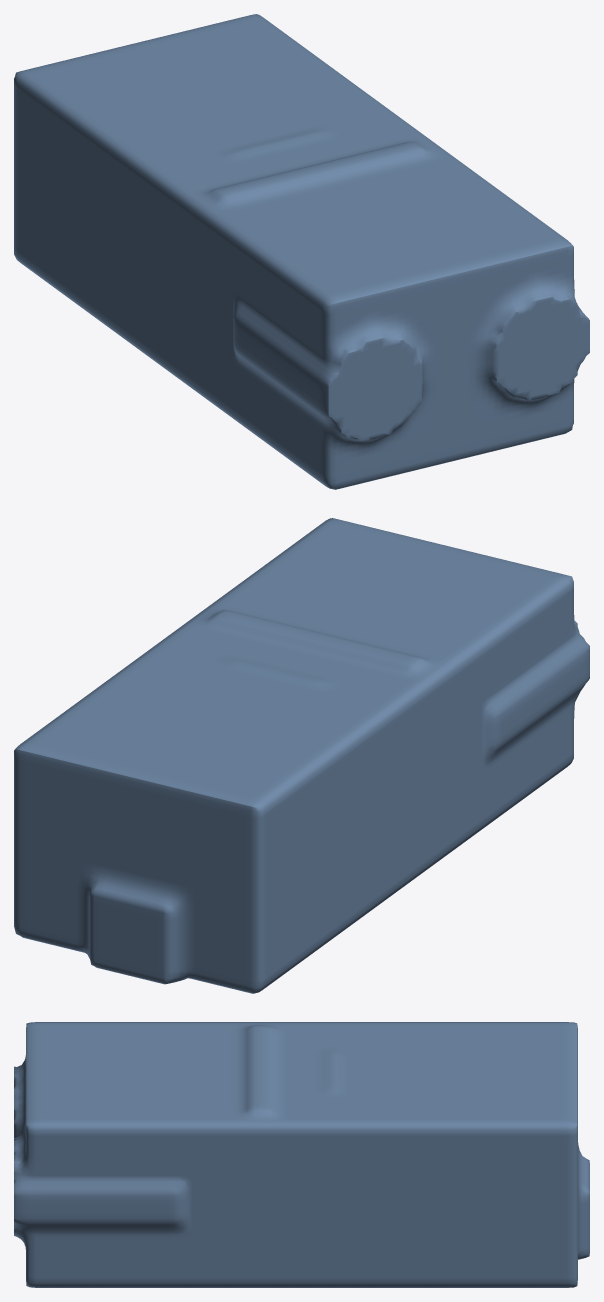
Rendered from staff-pose-typing.glb.
The picture shows the model from 3 angles, top to bottom: view 1: azimuth 30°, elevation 25°; view 2: azimuth 150°, elevation 25°; view 3: azimuth 270°, elevation 25°; orthographic projection. The views are drawn at different scales.
Visible parts, largest first — view 1: Leg_-1; view 2: Leg_-1; view 3: Leg_-1.
Boxes of the visible parts, x1,y1,x2,y2 form: Leg_-1: (14,14,589,489); Leg_-1: (14,518,589,993); Leg_-1: (14,1022,589,1287).
Size of the model in its own units: 0.5102 by 0.375 by 1.11.
